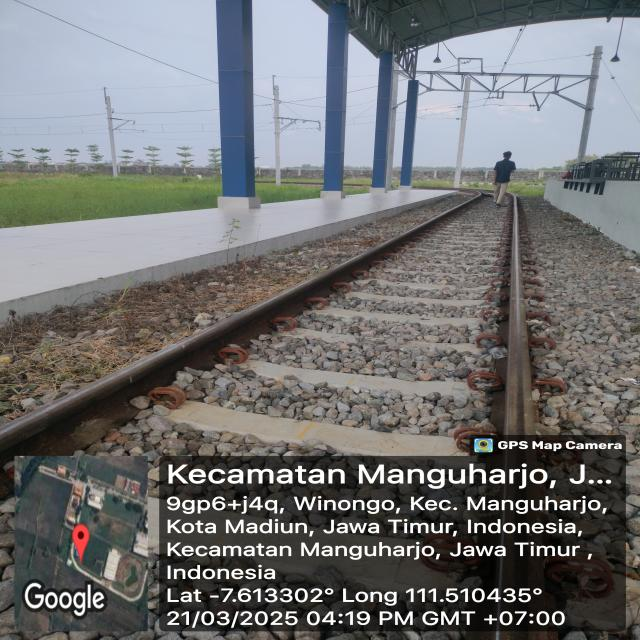rail-detection: (0, 193, 482, 456), (491, 195, 535, 435)
